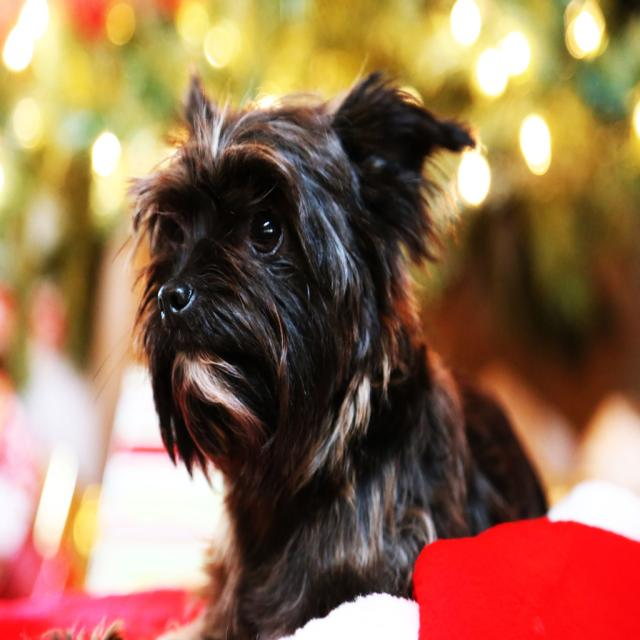Dog: (41, 51, 551, 639)
